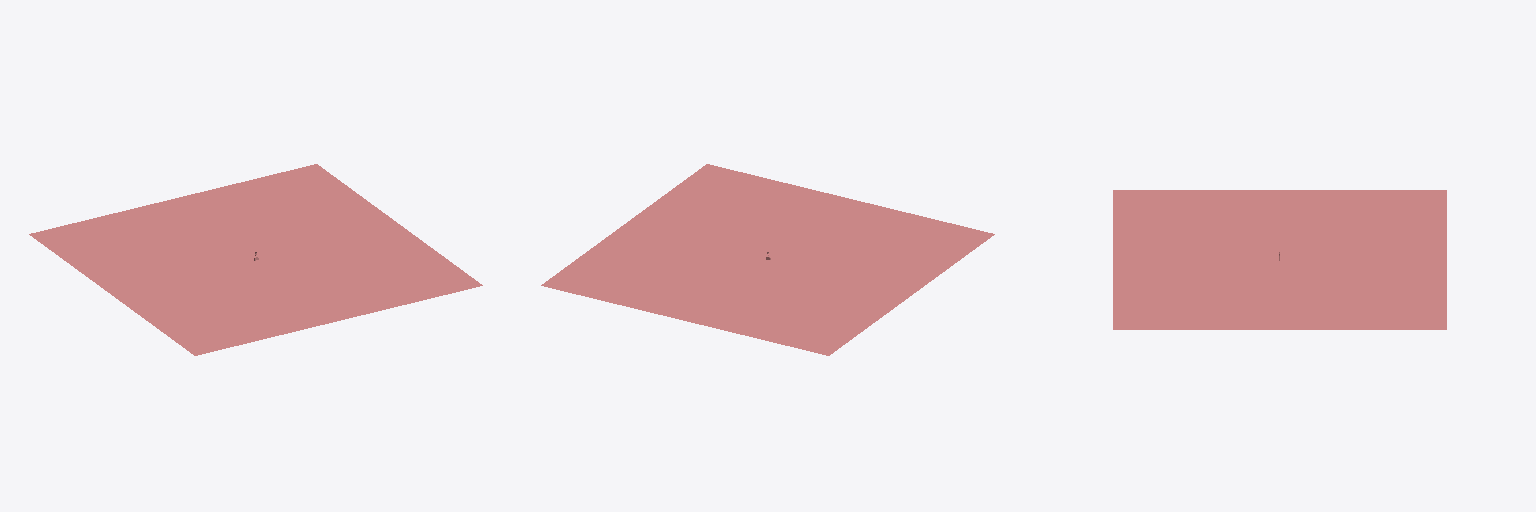
3 renders of one model, left to right at view 1: azimuth 30°, elevation 25°; view 2: azimuth 150°, elevation 25°; view 3: azimuth 270°, elevation 25°, orthographic.
Visible parts, largest first — view 1: Template_Ground_Plane; view 2: Template_Ground_Plane; view 3: Template_Ground_Plane.
Boxes of the visible parts, x1=… form: Template_Ground_Plane: x1=29, y1=164, x2=482, y2=355; Template_Ground_Plane: x1=541, y1=164, x2=994, y2=355; Template_Ground_Plane: x1=1113, y1=190, x2=1446, y2=329.
Size of the model in its own units: 12000 by 316 by 12000.